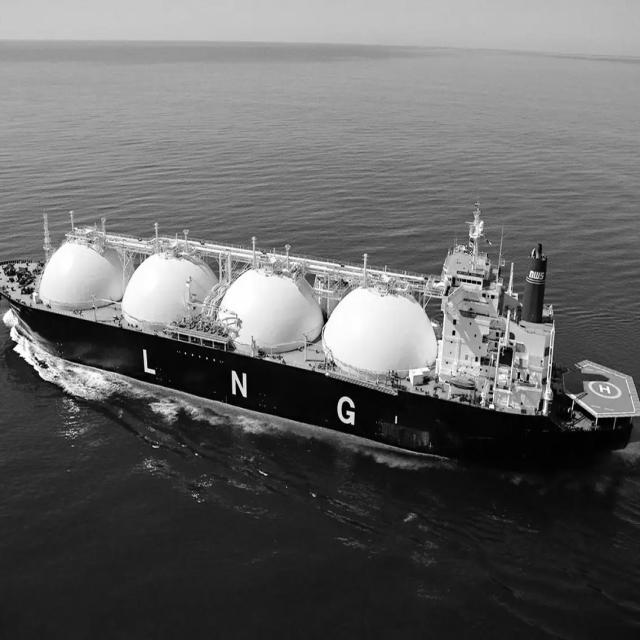LNG: (1, 167, 640, 524)
